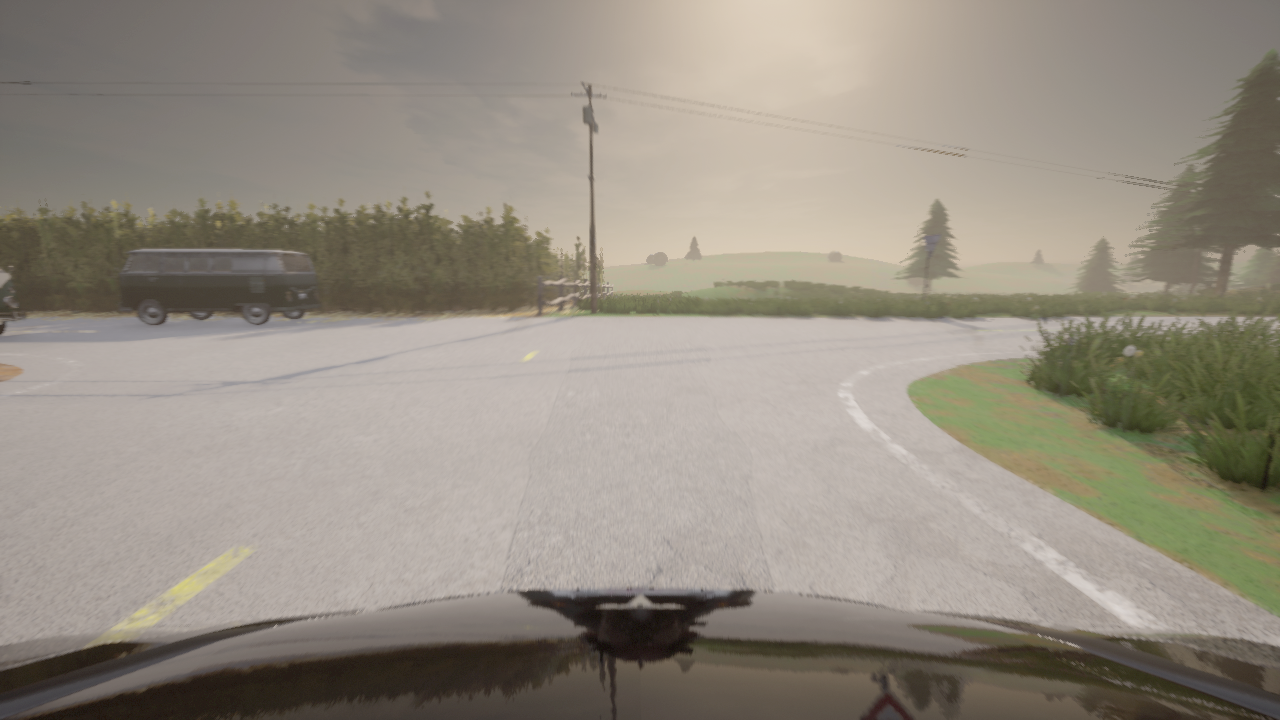cyclist: (0, 588, 1279, 719), (115, 247, 320, 325), (0, 265, 25, 335)
